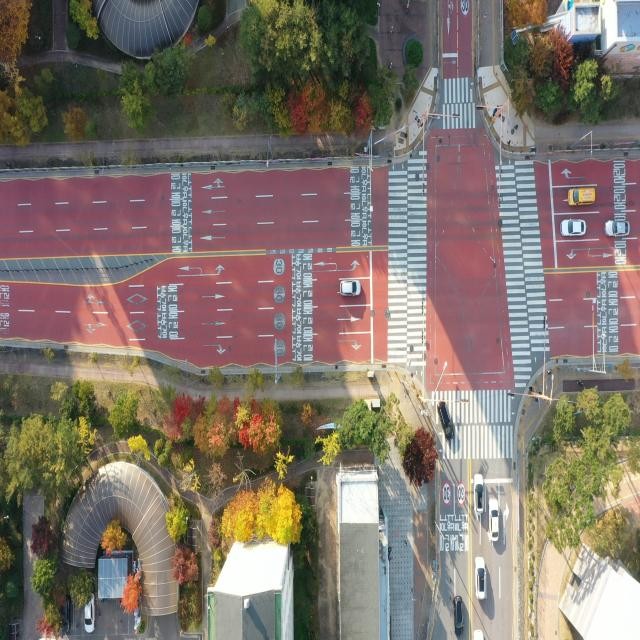car: (437, 395, 453, 440), (567, 185, 595, 207), (604, 218, 630, 238), (473, 469, 484, 515), (560, 218, 588, 236), (475, 556, 486, 601), (453, 593, 464, 637), (84, 595, 95, 635), (489, 498, 499, 541), (339, 280, 362, 295)
